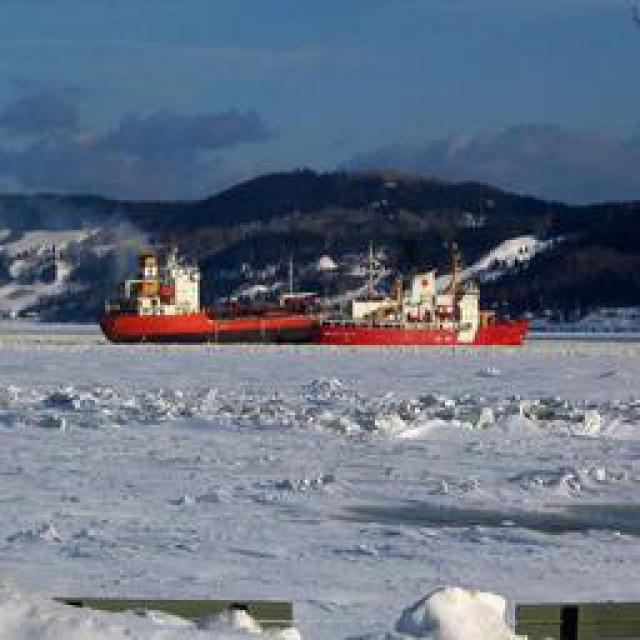Ship: (102, 239, 538, 344)
